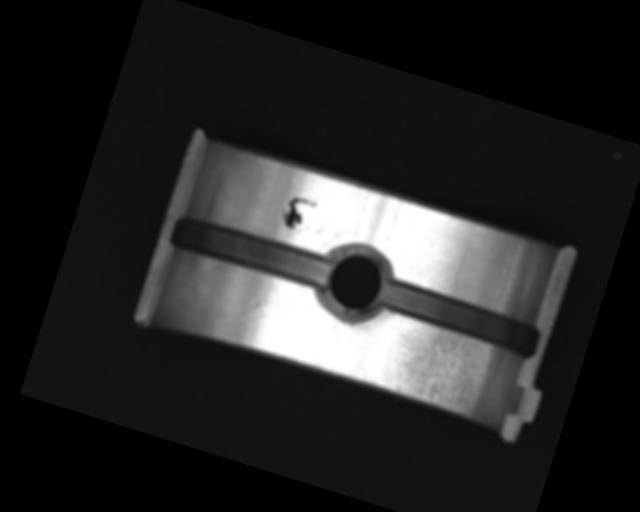blot: (277, 191, 320, 237)
bruise: (250, 298, 261, 309)
gap: (165, 208, 336, 297), (376, 277, 545, 359)
hole: (309, 235, 403, 332)
nick: (416, 268, 435, 290)
scratch: (368, 311, 505, 422)
